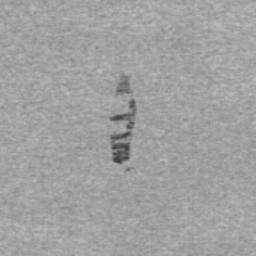Secondary rust skin: (108, 74, 137, 165)
